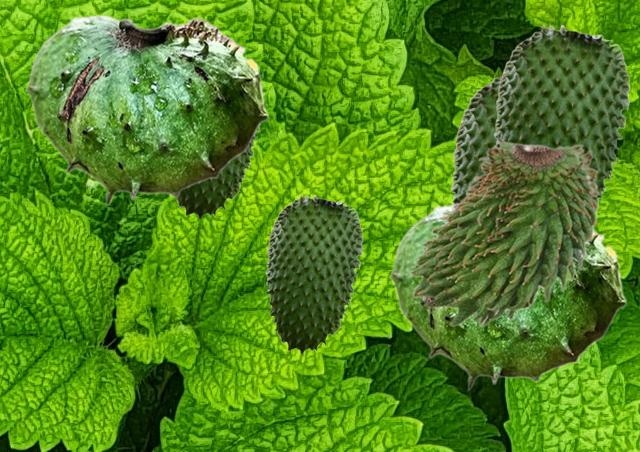guyabano: (25, 14, 268, 206), (389, 203, 626, 390), (408, 134, 600, 326), (493, 24, 629, 203), (265, 194, 362, 354), (175, 126, 260, 219), (450, 71, 502, 203)
